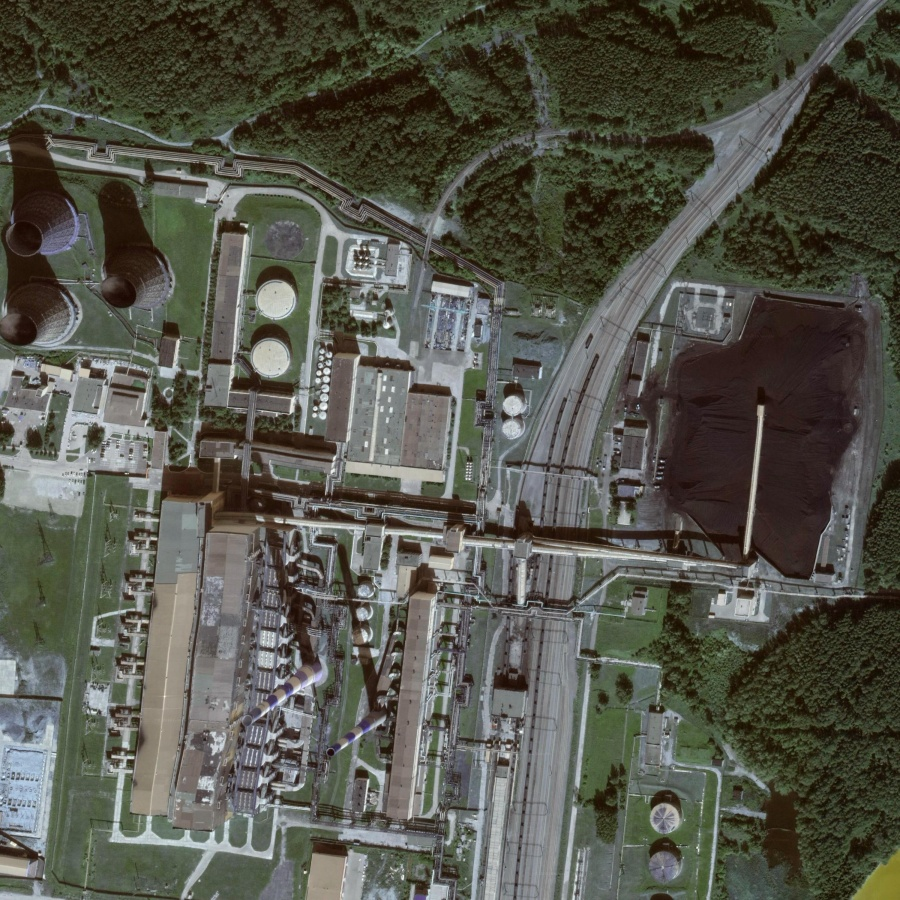PowerPlant: (597, 274, 867, 589), (212, 459, 465, 787)
